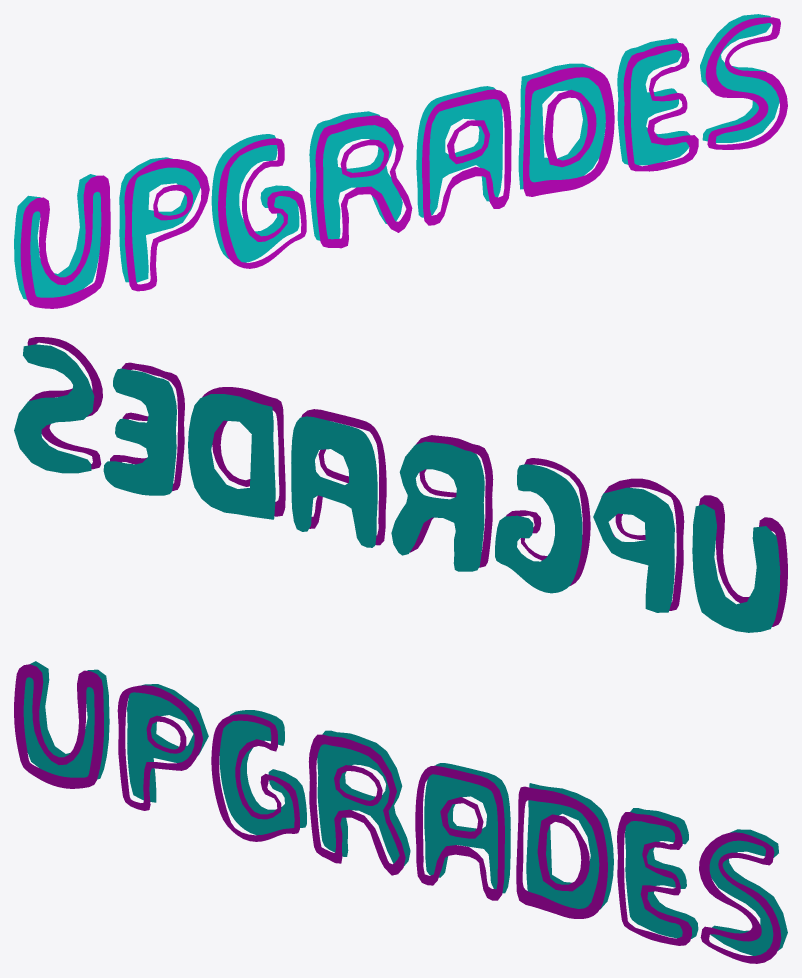
The model's file is mesh_text_upgrades.fbx.
3 renders of one model, top to bottom at view 1: azimuth 30°, elevation 25°; view 2: azimuth 150°, elevation 25°; view 3: azimuth 330°, elevation 25°, orthographic.
Visible parts, largest first — view 1: mesh_text_upgrades, mesh_text_upgrades1; view 2: mesh_text_upgrades, mesh_text_upgrades1; view 3: mesh_text_upgrades, mesh_text_upgrades1.
Part boxes in pixels (left/top/right/bottom): mesh_text_upgrades: left=14, top=14, right=779, bottom=299; mesh_text_upgrades1: left=20, top=17, right=787, bottom=308; mesh_text_upgrades: left=14, top=344, right=780, bottom=632; mesh_text_upgrades1: left=27, top=337, right=787, bottom=626; mesh_text_upgrades: left=23, top=661, right=787, bottom=955; mesh_text_upgrades1: left=14, top=664, right=781, bottom=963.
Size of the model in its own units: 0.1305 by 0.0215 by 0.00212.
